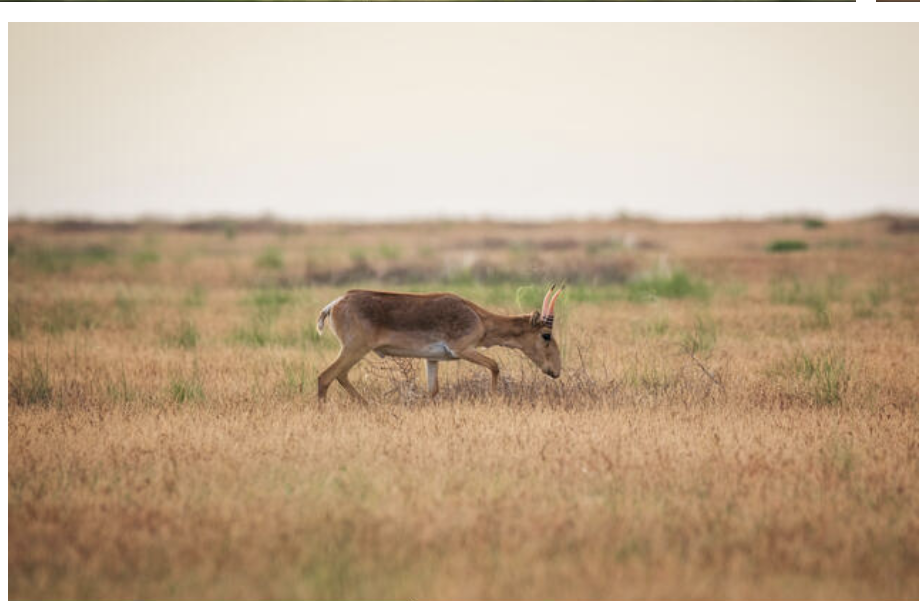saiga: (285, 251, 613, 419)
